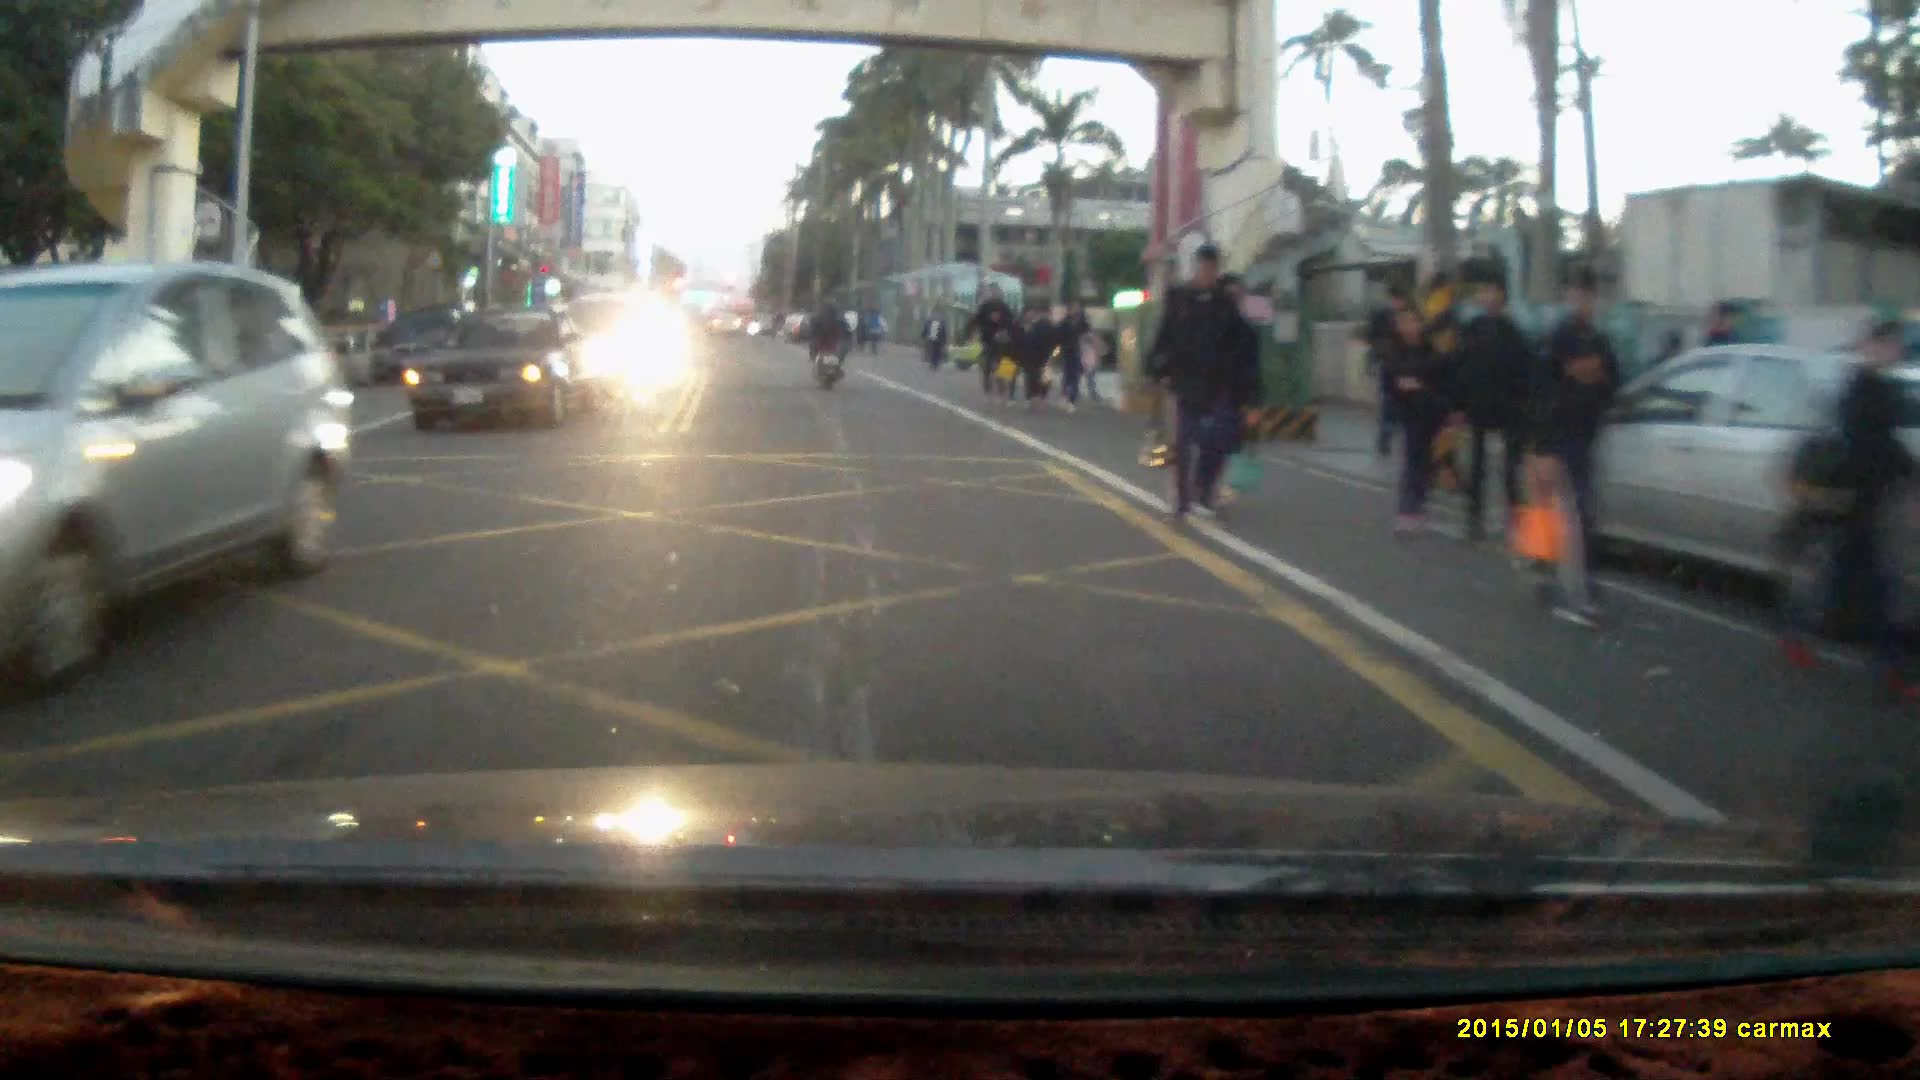pedestrian: (1777, 316, 1920, 719), (1523, 259, 1632, 632), (1143, 242, 1244, 525), (1446, 270, 1535, 554), (1381, 302, 1452, 543), (1048, 296, 1094, 414), (972, 279, 1013, 404), (1008, 300, 1050, 409), (920, 306, 945, 374)
rider: (807, 294, 849, 390)
vehicle: (1, 261, 351, 692), (1513, 339, 1920, 638), (402, 309, 611, 433)
